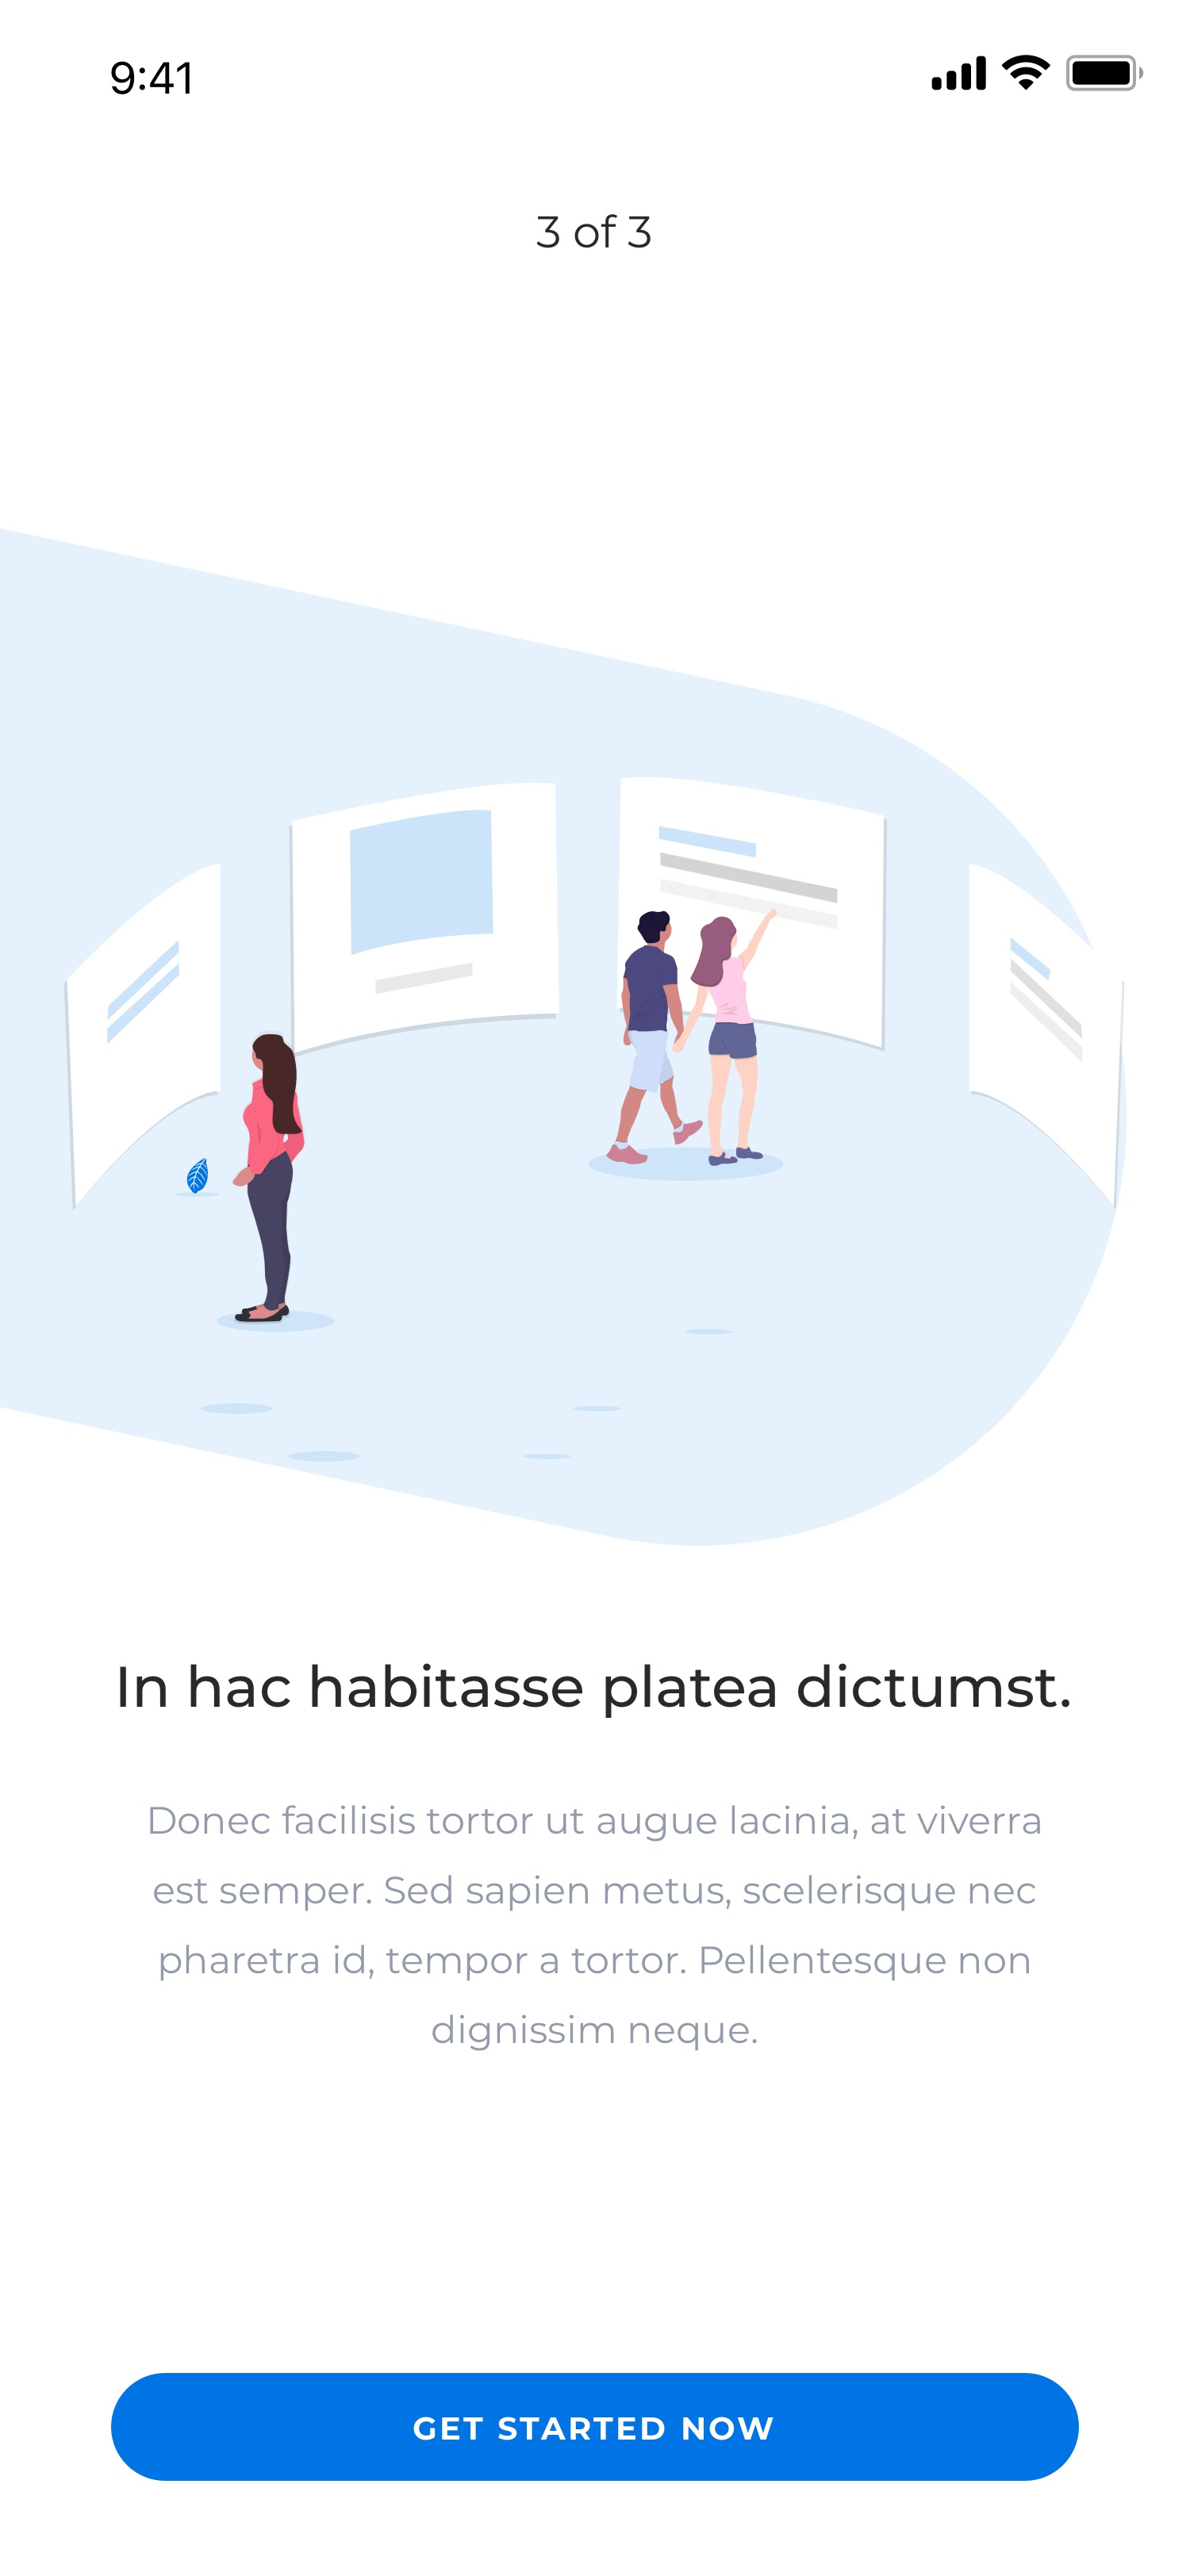Image: (51, 762, 1136, 1475)
Text: (150, 1802, 1042, 2052), (118, 1663, 1072, 1720), (536, 214, 651, 251)
TextButton: (112, 2372, 1080, 2482)
UpperTaskBar: (110, 53, 1144, 95)
